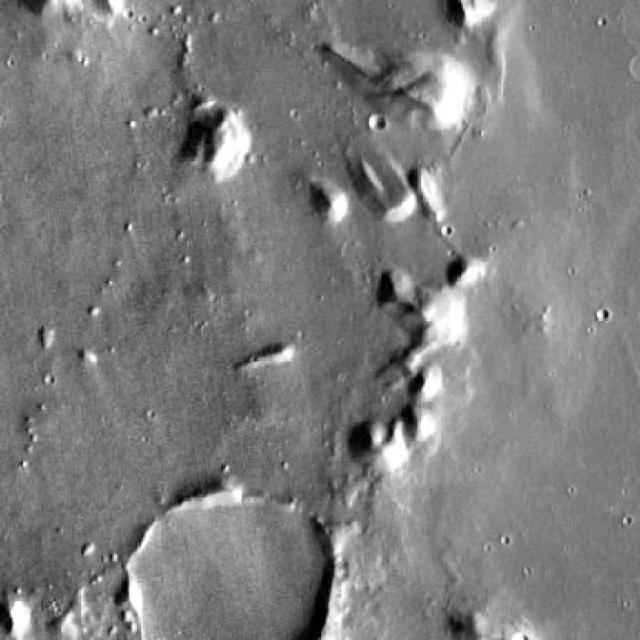crater: (121, 495, 334, 640), (366, 115, 386, 133)
